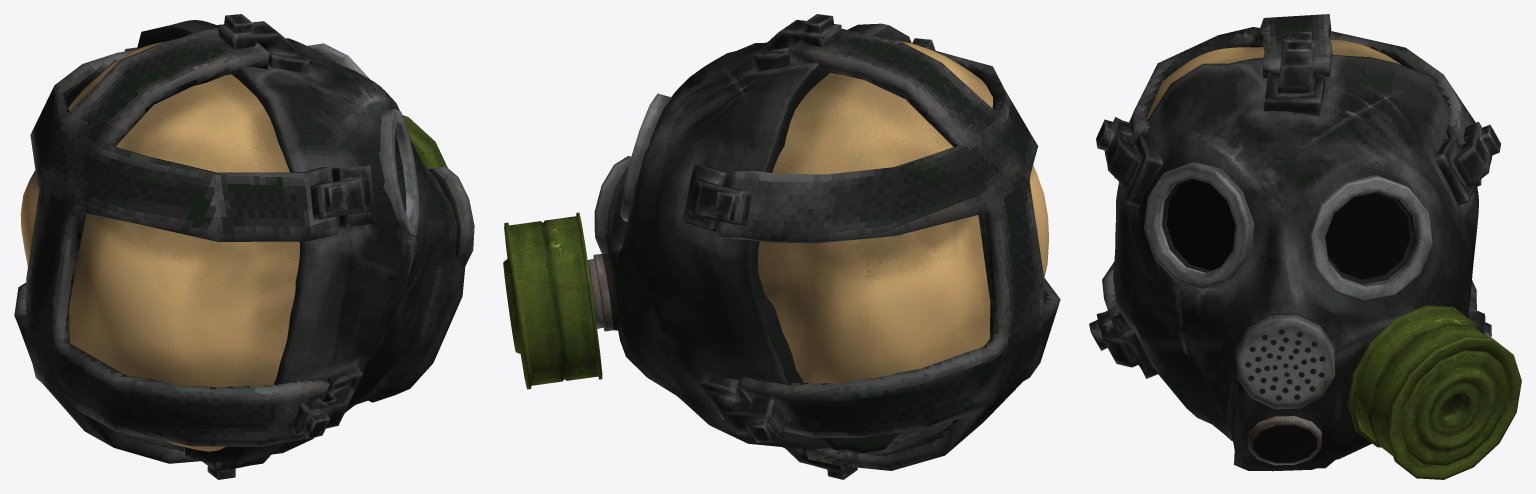
Rendered from mp_customization gas mask1.glb.
The picture shows the model from 3 angles, left to right: view 1: azimuth 30°, elevation 25°; view 2: azimuth 150°, elevation 25°; view 3: azimuth 270°, elevation 25°; orthographic projection. The views are drawn at different scales.
Parts seen in each view (by area): view 1: Plane_001; view 2: Plane_001; view 3: Plane_001.
Boxes of the visible parts, x1,y1,x2,y2 form: Plane_001: (14, 14, 474, 479); Plane_001: (503, 14, 1060, 479); Plane_001: (1089, 14, 1521, 479).
Bounding box in the file's own units: 2.22 × 2.05 × 1.85.
Materials: 4 (3 with a texture image).
